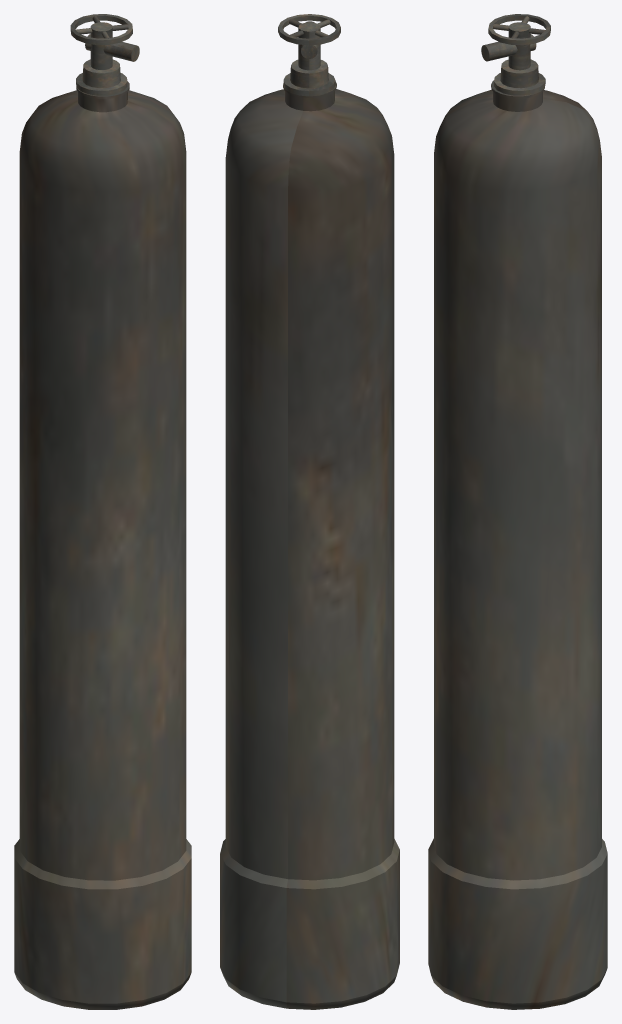
File: prop_medium_009.glb
3 views of the same model, side by side, from view 1: azimuth 30°, elevation 25°; view 2: azimuth 150°, elevation 25°; view 3: azimuth 270°, elevation 25° (orthographic).
Visible parts, largest first — view 1: Building_12_028; view 2: Building_12_028; view 3: Building_12_028.
Part boxes in pixels (x1,y1,x2,y2): Building_12_028: [14, 14, 191, 1009]; Building_12_028: [220, 14, 399, 1009]; Building_12_028: [428, 14, 607, 1009].
Bounding box in the file's own units: 0.2058 × 1.2 × 0.2058.
1 material, 1 textured.
